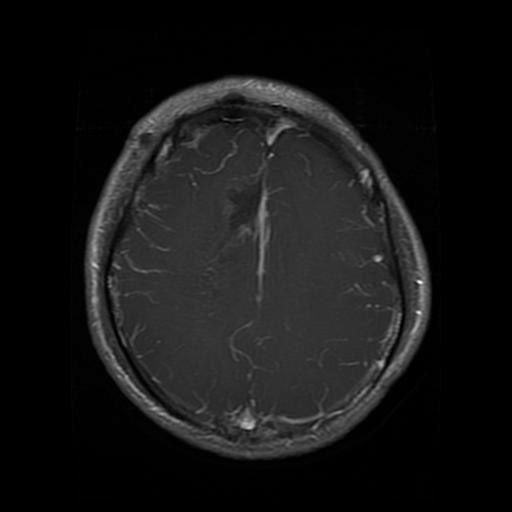Tumour-Glioma: (362, 237, 426, 349)
